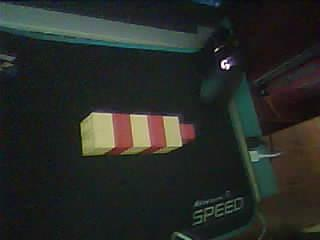lego: (79, 111, 195, 156)
